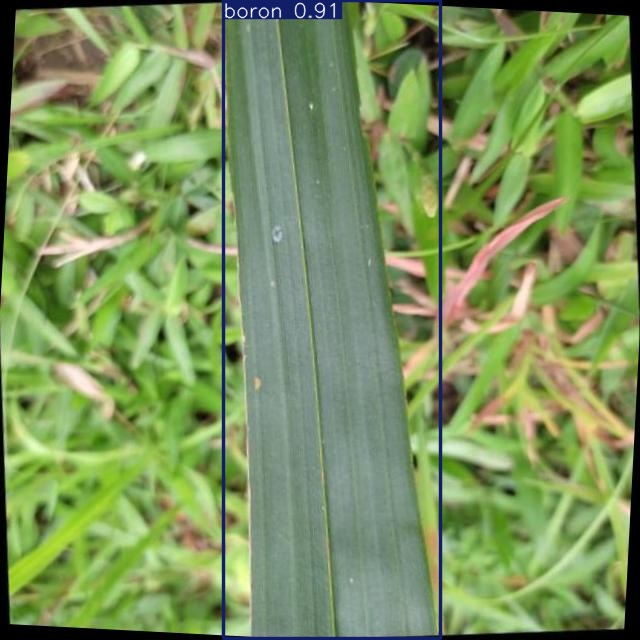nitrogen: (223, 1, 440, 639)
